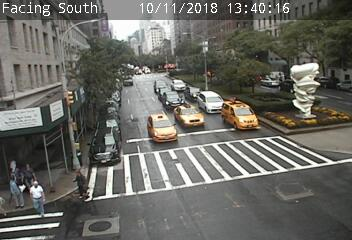car: (89, 128, 121, 165), (222, 101, 259, 130), (148, 114, 177, 143), (173, 105, 204, 128), (197, 91, 226, 114), (164, 91, 185, 108), (185, 86, 206, 102), (279, 79, 301, 93), (159, 86, 172, 100), (154, 81, 169, 93), (171, 79, 186, 91), (261, 77, 281, 86)
